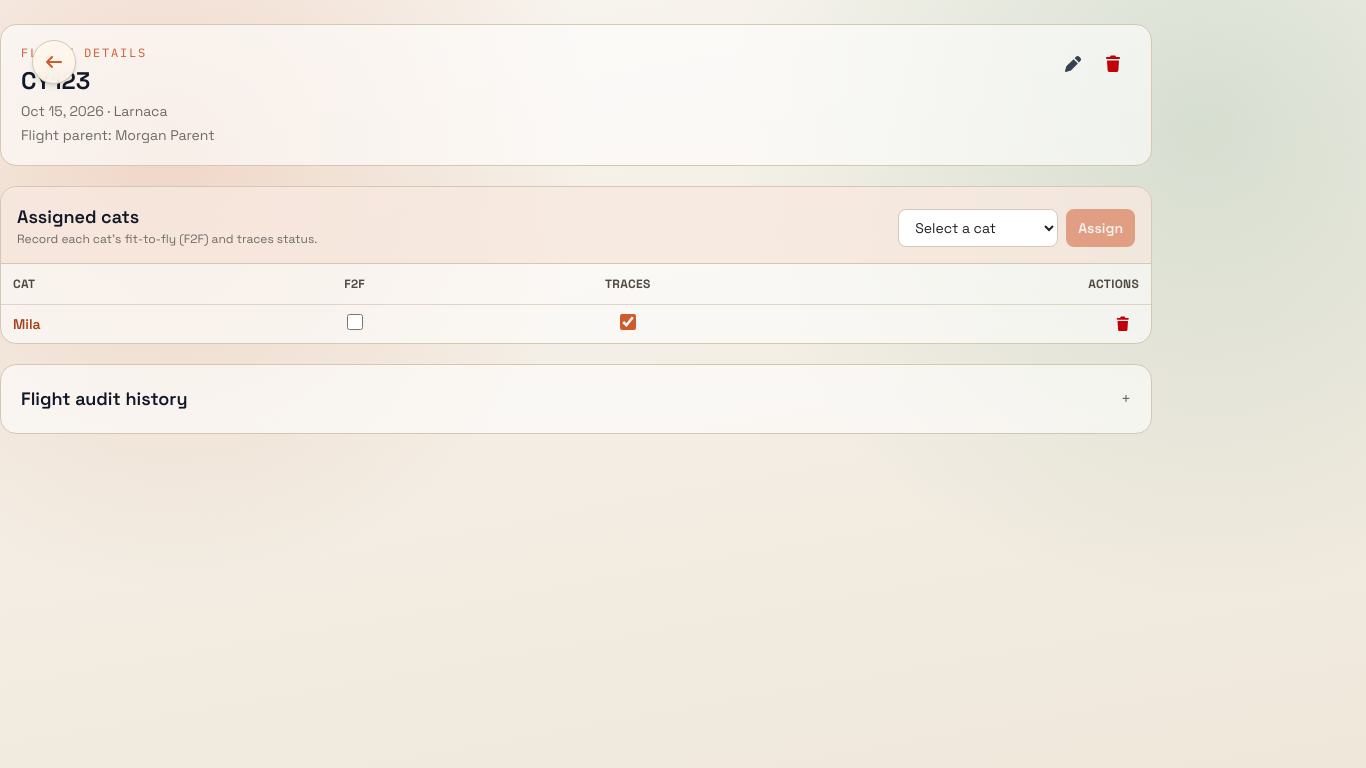
Test: FlightsClient › keeps the standalone details visible after deleting the flight
The width and height of the screenshot is (1366, 768).
Check: the heading "CY123" is shown, box [21,65,90,96]
What coordinates should you click on to do the following:
click the button named "Delete flight"
I would click on:
 (1113, 65)
Its box is [1095,45,1131,85].
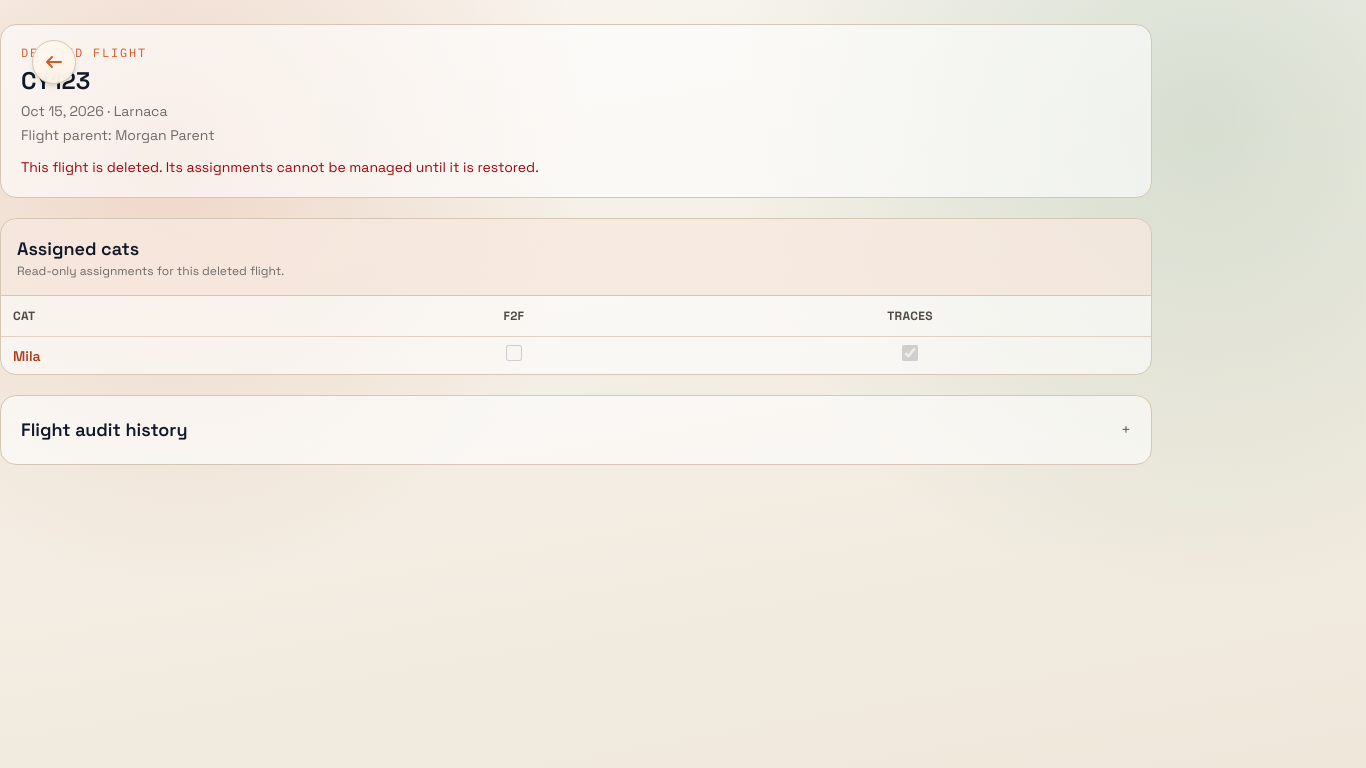
Check: the text "This flight is deleted. Its assignments cannot be managed until it is restored." is shown, box [21,158,539,176]
